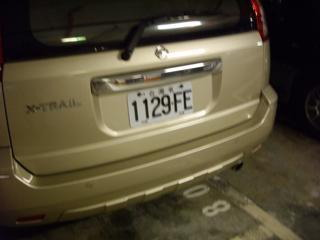plate: (125, 80, 196, 125)
